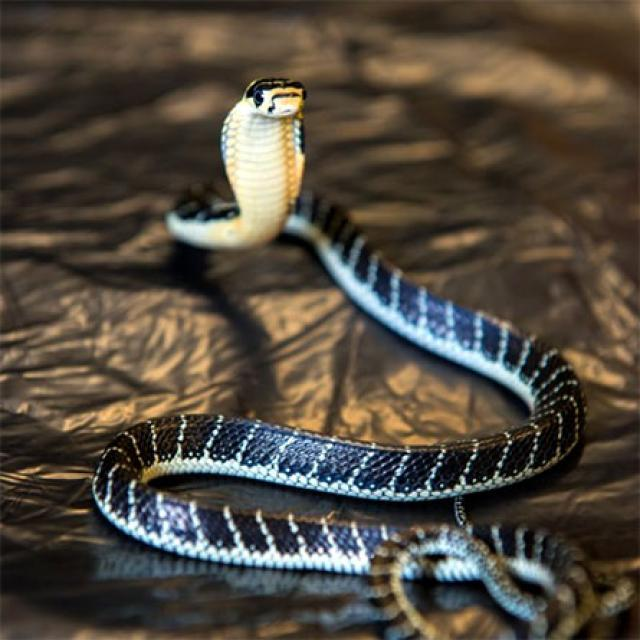Snake: (83, 67, 597, 640)
